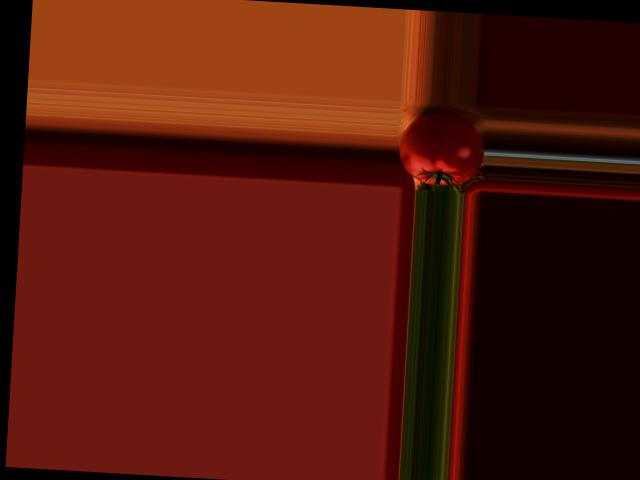tomato: (397, 109, 485, 187)
